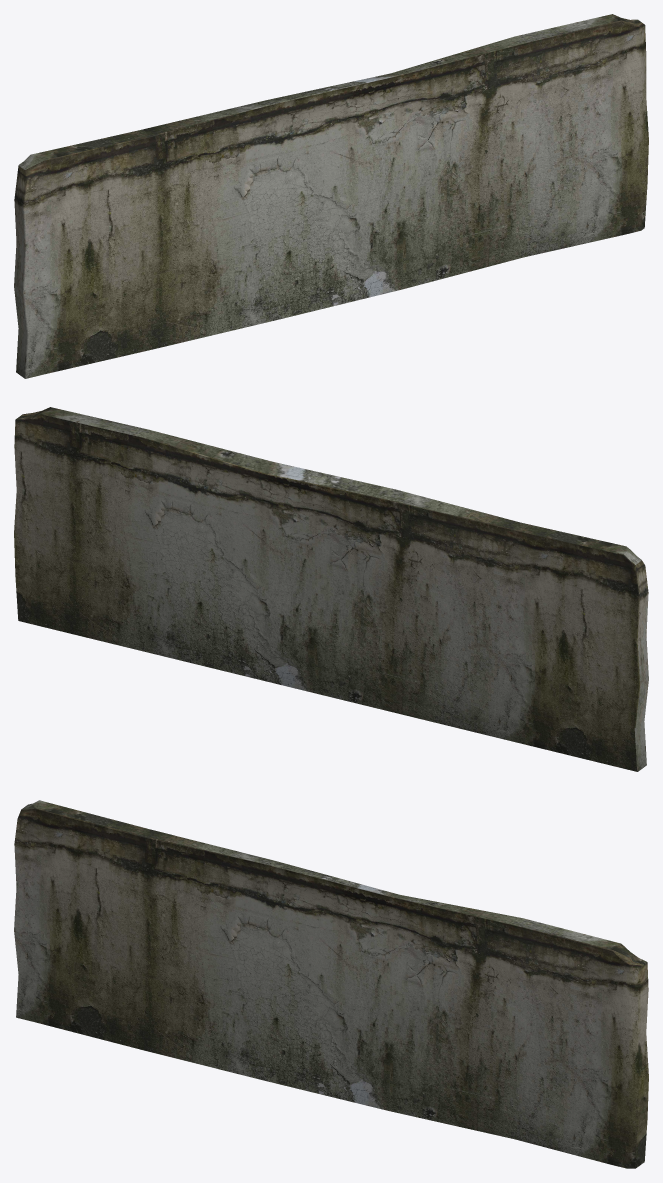
Rendered from wall.glb.
3 renders of one model, top to bottom at view 1: azimuth 30°, elevation 25°; view 2: azimuth 150°, elevation 25°; view 3: azimuth 330°, elevation 25°, orthographic.
Parts seen in each view (by area): view 1: Cube.002; view 2: Cube.002; view 3: Cube.002.
Boxes of the visible parts, x1,y1,x2,y2 form: Cube.002: (14,14,648,378); Cube.002: (14,407,648,771); Cube.002: (14,800,648,1168).
Bounding box in the file's own units: 5.8 × 1.9 × 0.2411.
1 material, 1 textured.
